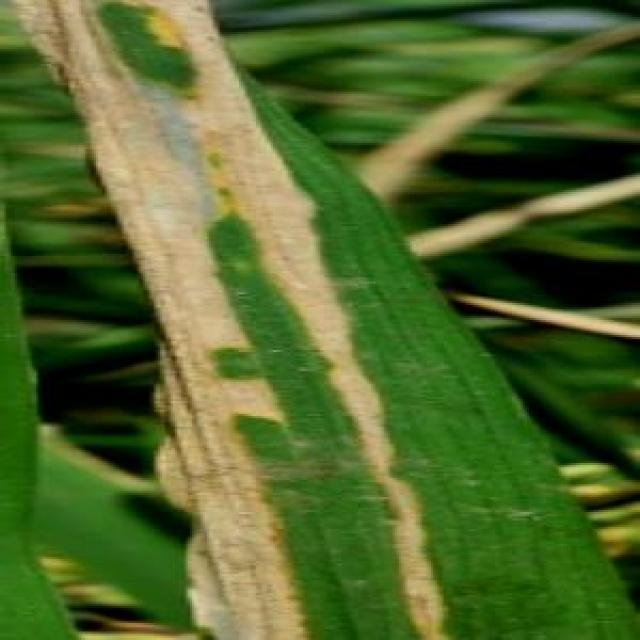Rice_Bacterial_Blight: (107, 2, 536, 638)
